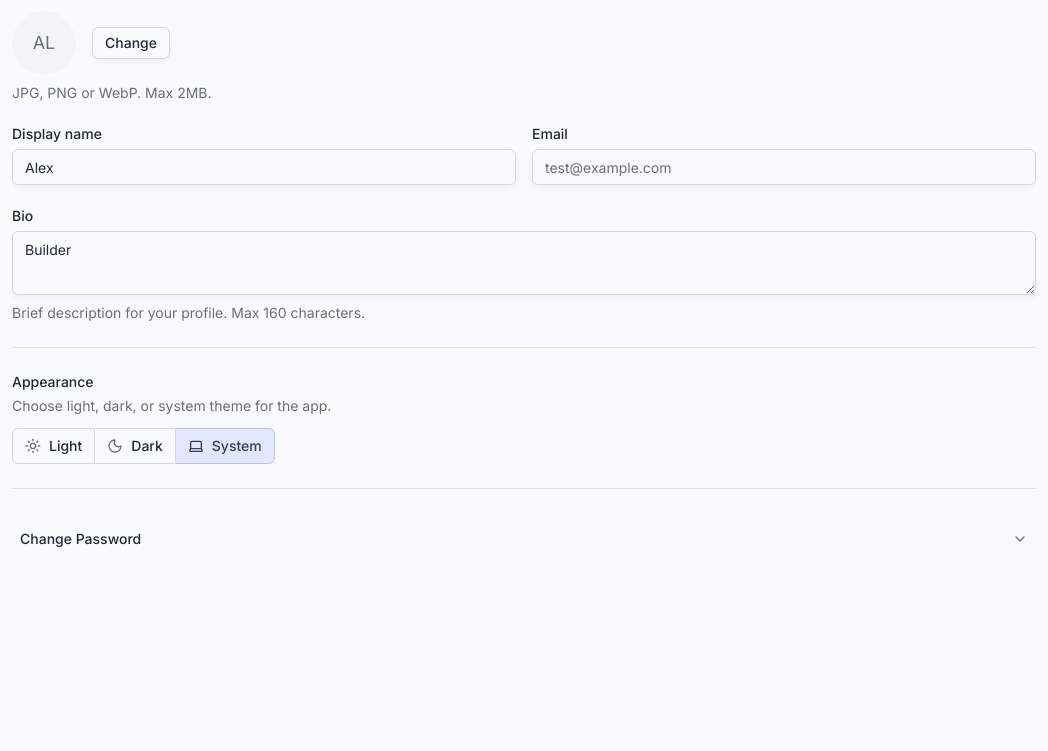
Test: ProfileModalContent › should collapse the accordion after a successful password change
Click the button "Change Password". click: {"x": 81, "y": 538}
box: [12,513,1036,565]
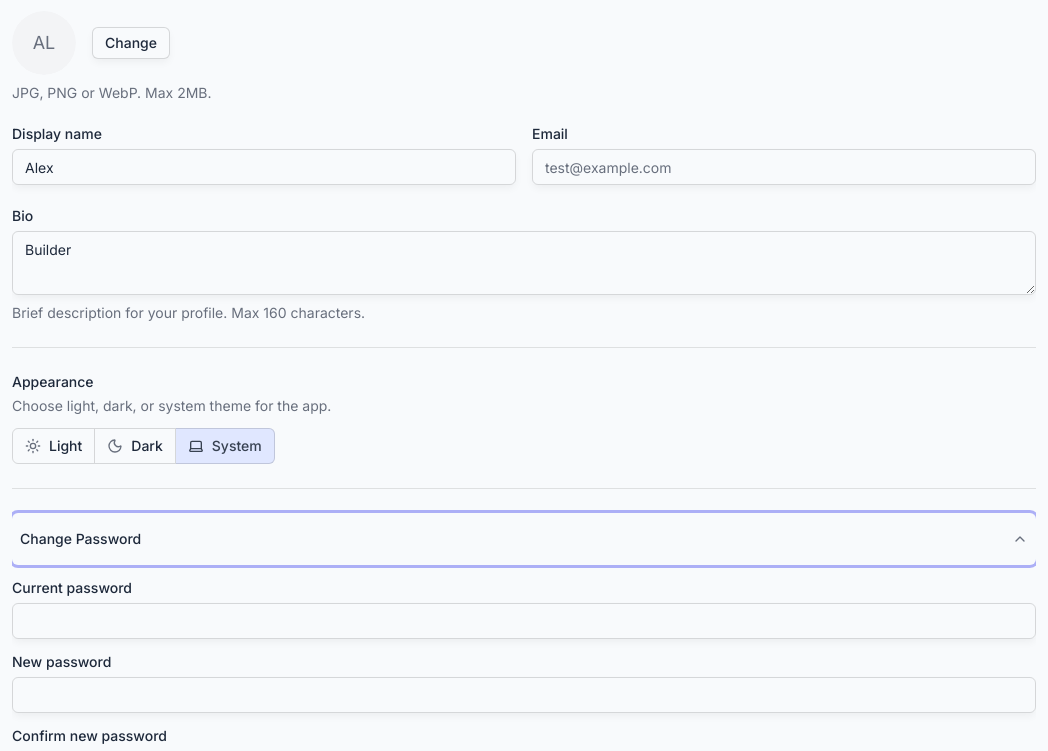
Type "old-password" into the password field labelled "Current password". click: {"x": 524, "y": 621}
box: [12,603,1036,639]
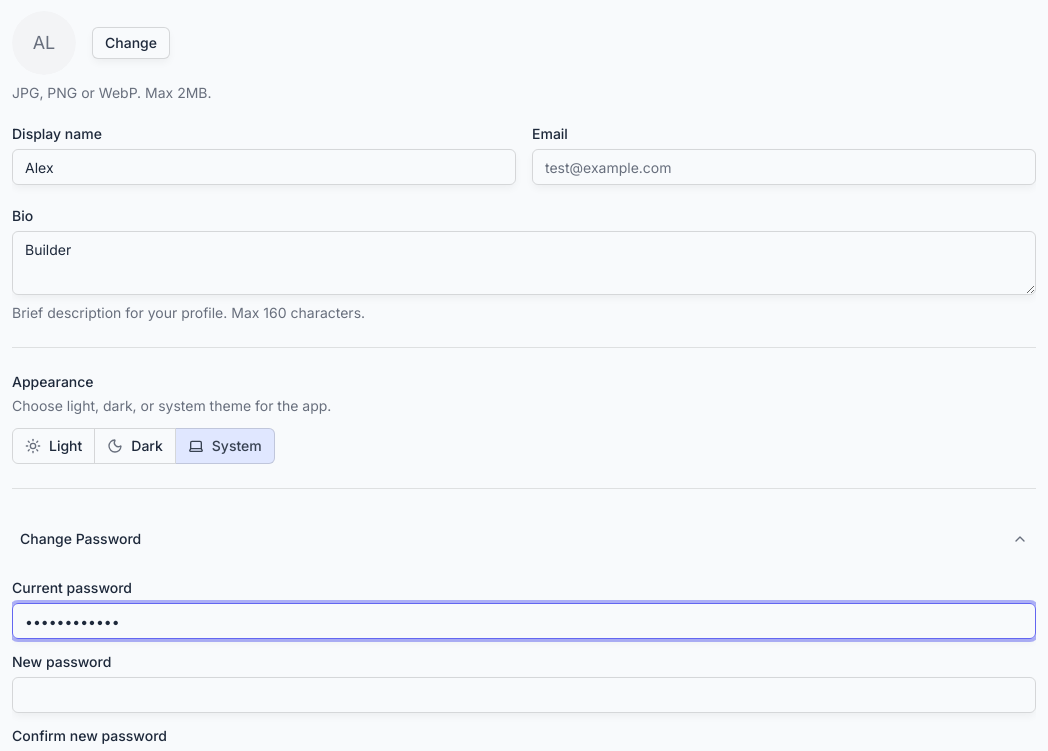
Type "password123" into the password field labelled "New password". click: {"x": 524, "y": 695}
box: [12,677,1036,713]
(page scrolled)
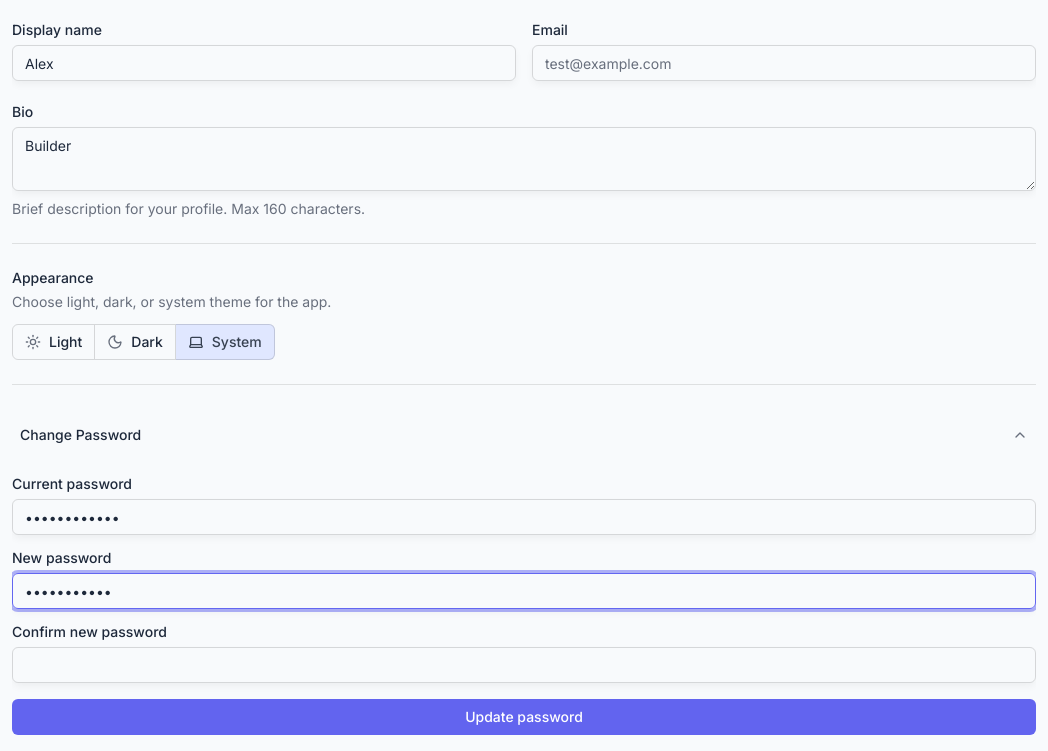
Type "password123" into the password field labelled "Confirm new password". click: {"x": 524, "y": 665}
box: [12,647,1036,683]
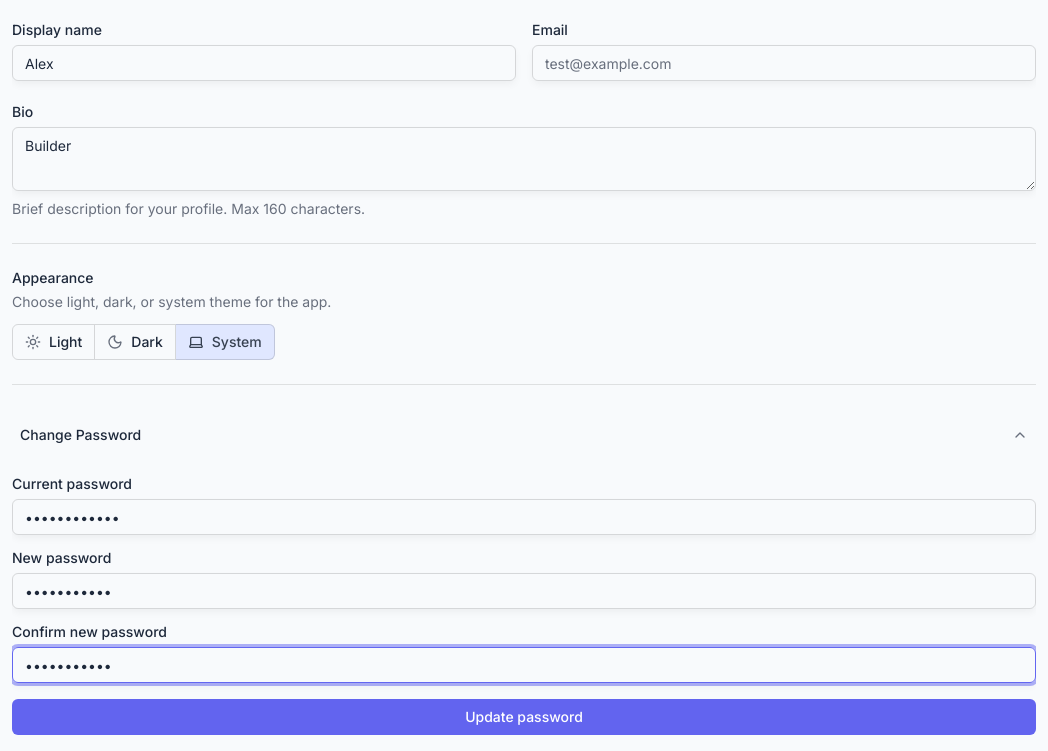
Click the button "Update password". click: {"x": 524, "y": 717}
box: [12,699,1036,735]
(page scrolled)
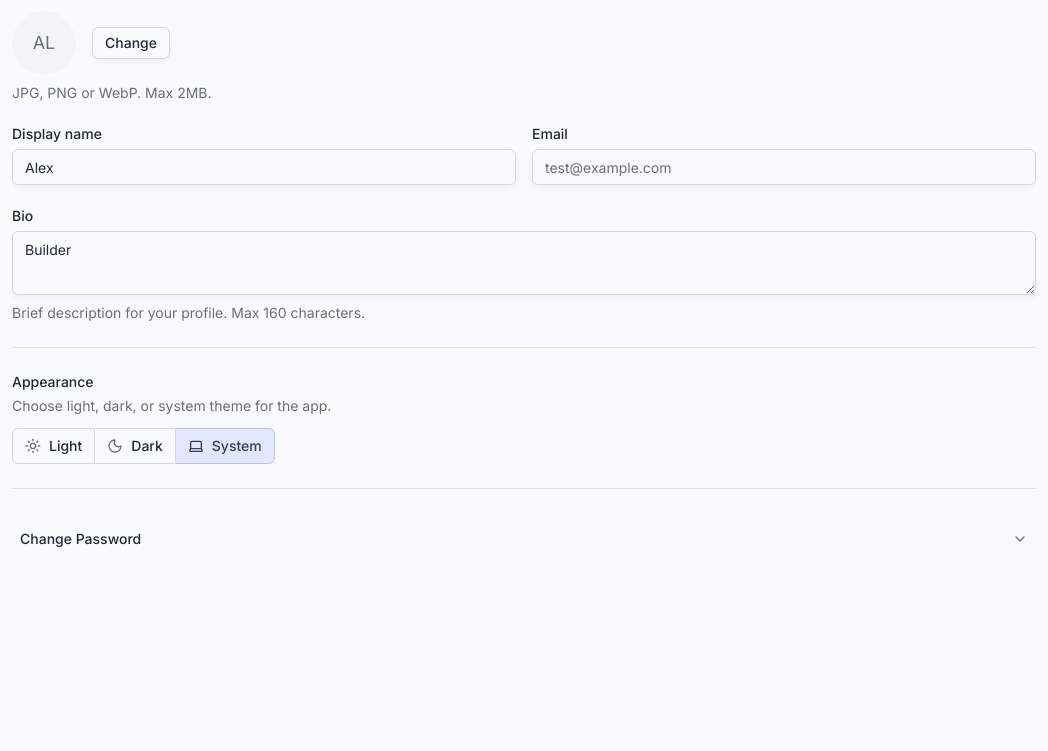
Check: the button "Change Password" is shown, box [12,513,1036,565]
Check: the label labelled "Current password" is gone
